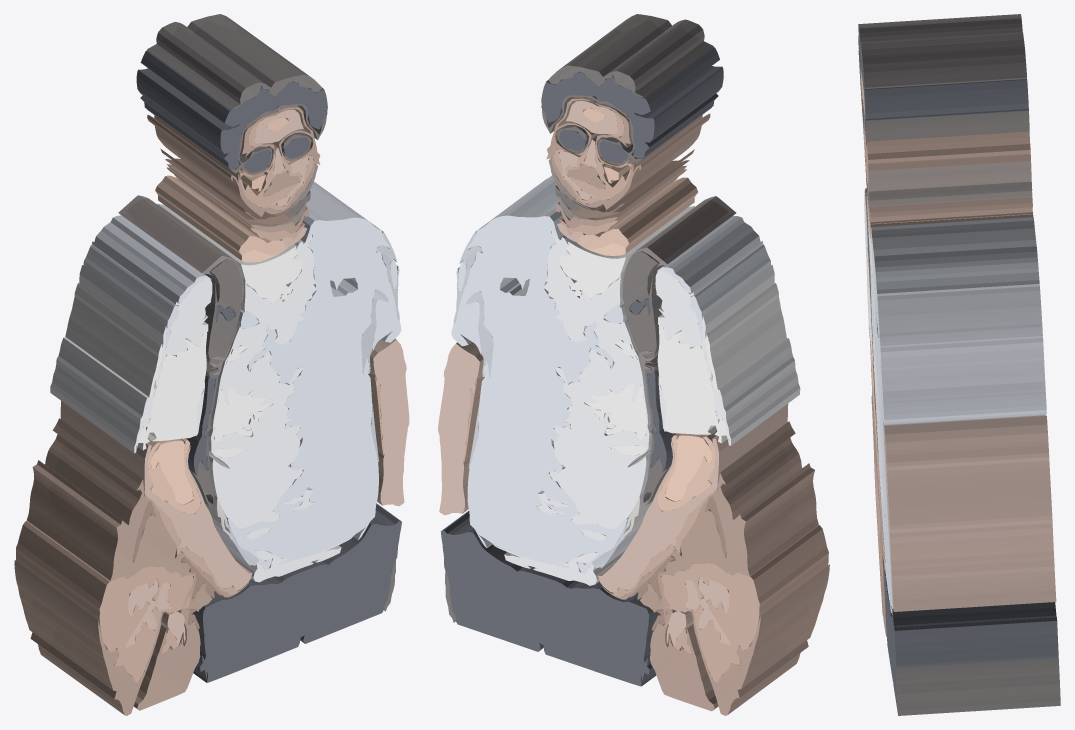
The picture shows the model from 3 angles, left to right: view 1: azimuth 30°, elevation 25°; view 2: azimuth 150°, elevation 25°; view 3: azimuth 270°, elevation 25°; orthographic projection. The views are drawn at different scales.
Parts seen in each view (by area): view 1: Node1, Node26, Node6, Node12, Node13, Node38, Node47, Node7, Node27, Node36, Node19, Node18 (+25 smaller); view 2: Node1, Node6, Node26, Node12, Node13, Node38, Node7, Node47, Node27, Node19, Node18, Node32 (+27 smaller); view 3: Node18, Node62, Node1, Node47, Node6, Node49, Node28, Node7, Node46, Node57, Node30, Node51 (+8 smaller).
Part boxes in pixels (bbox=[...]): Node1: bbox=[226, 181, 401, 570]; Node26: bbox=[27, 418, 248, 710]; Node6: bbox=[193, 503, 401, 682]; Node12: bbox=[208, 236, 316, 528]; Node13: bbox=[50, 241, 212, 453]; Node38: bbox=[16, 521, 193, 683]; Node47: bbox=[147, 14, 322, 109]; Node7: bbox=[136, 50, 327, 168]; Node27: bbox=[14, 560, 166, 715]; Node36: bbox=[65, 283, 162, 397]; Node19: bbox=[60, 401, 252, 590]; Node18: bbox=[370, 338, 409, 506]; Node1: bbox=[451, 175, 628, 574]; Node6: bbox=[440, 511, 659, 686]; Node26: bbox=[601, 421, 818, 711]; Node12: bbox=[544, 231, 652, 529]; Node13: bbox=[655, 241, 800, 445]; Node38: bbox=[661, 525, 828, 682]; Node7: bbox=[541, 47, 723, 158]; Node47: bbox=[548, 14, 713, 97]; Node27: bbox=[687, 564, 829, 715]; Node19: bbox=[598, 403, 788, 592]; Node18: bbox=[438, 342, 483, 515]; Node32: bbox=[657, 322, 729, 443]; Node18: bbox=[883, 415, 1056, 611]; Node62: bbox=[877, 286, 1045, 408]; Node1: bbox=[871, 217, 1046, 614]; Node47: bbox=[858, 14, 1026, 88]; Node6: bbox=[883, 561, 1058, 713]; Node49: bbox=[896, 658, 1060, 715]; Node28: bbox=[862, 80, 1030, 190]; Node7: bbox=[858, 37, 1028, 129]; Node46: bbox=[860, 66, 1029, 141]; Node57: bbox=[867, 160, 1031, 193]; Node30: bbox=[866, 178, 1032, 223]; Node51: bbox=[868, 181, 1032, 205].
Bounding box in the file's own units: 1.51 × 2.75 × 0.7696.
